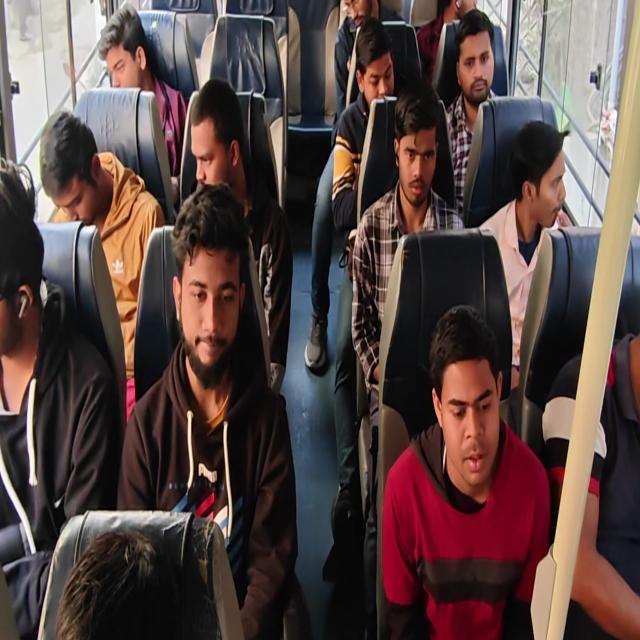person: (1, 1, 637, 638), (115, 180, 298, 638), (350, 80, 464, 636), (0, 158, 122, 638), (380, 303, 551, 638), (38, 110, 165, 423), (187, 77, 293, 395), (304, 16, 396, 372), (544, 329, 640, 639), (477, 118, 570, 390), (54, 525, 222, 638), (97, 2, 187, 180), (444, 8, 497, 214), (331, 0, 381, 146), (416, 0, 477, 85)
